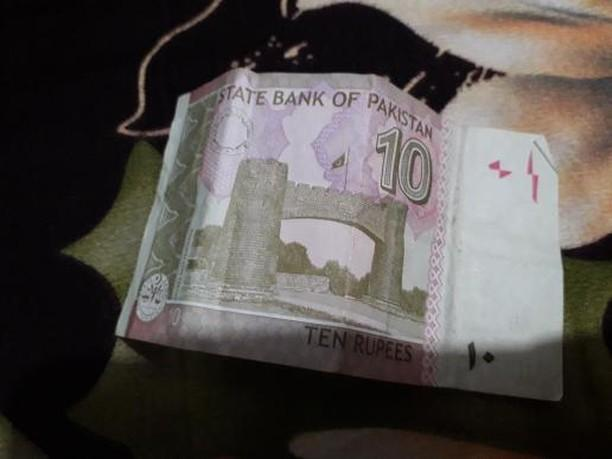10 rupee: (109, 63, 567, 409)
